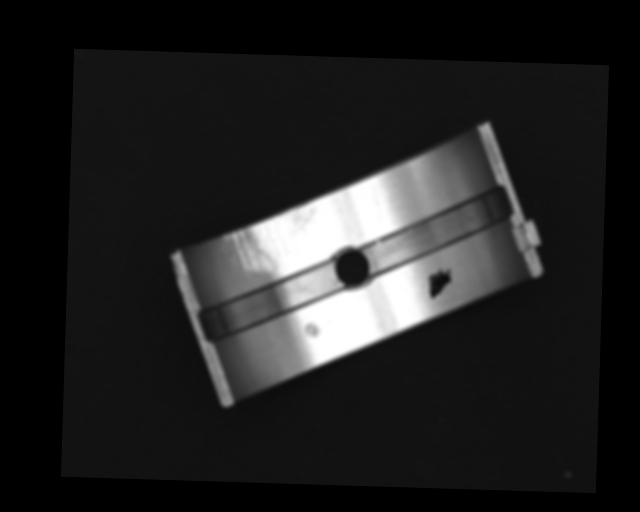blot: (426, 266, 453, 298)
bruise: (303, 320, 320, 338)
gap: (355, 184, 513, 279), (193, 255, 343, 345)
hole: (331, 243, 375, 292)
nick: (369, 180, 385, 220)
scratch: (220, 198, 317, 276)
